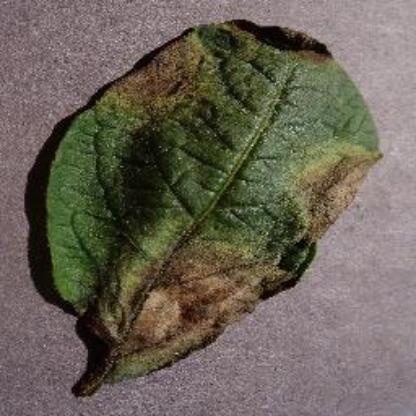Late-Blight: (20, 0, 391, 390)
